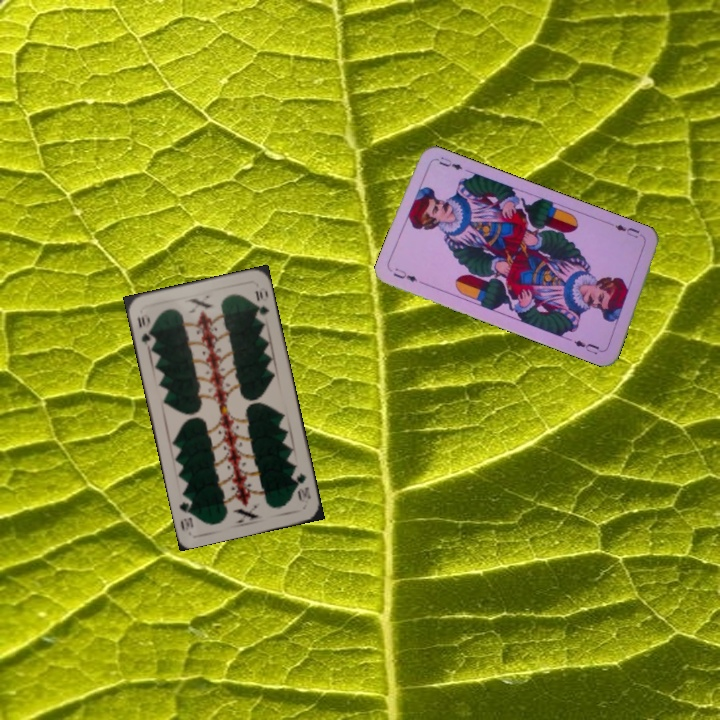EU: (608, 219, 647, 241), (389, 264, 420, 285)
G10: (133, 312, 155, 349), (291, 469, 313, 505)
